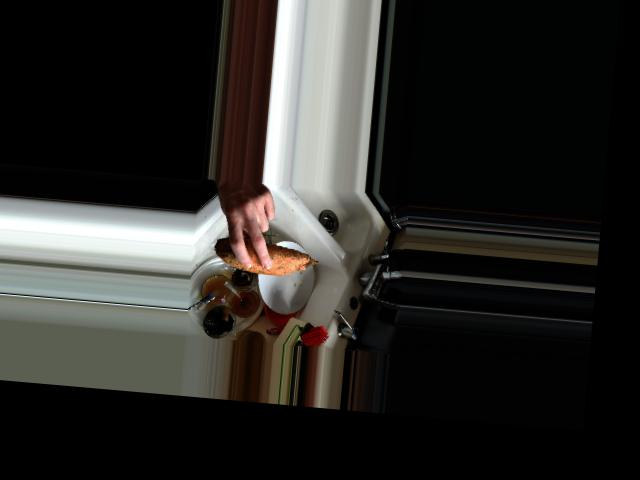sweet_potato: (209, 230, 324, 278)
